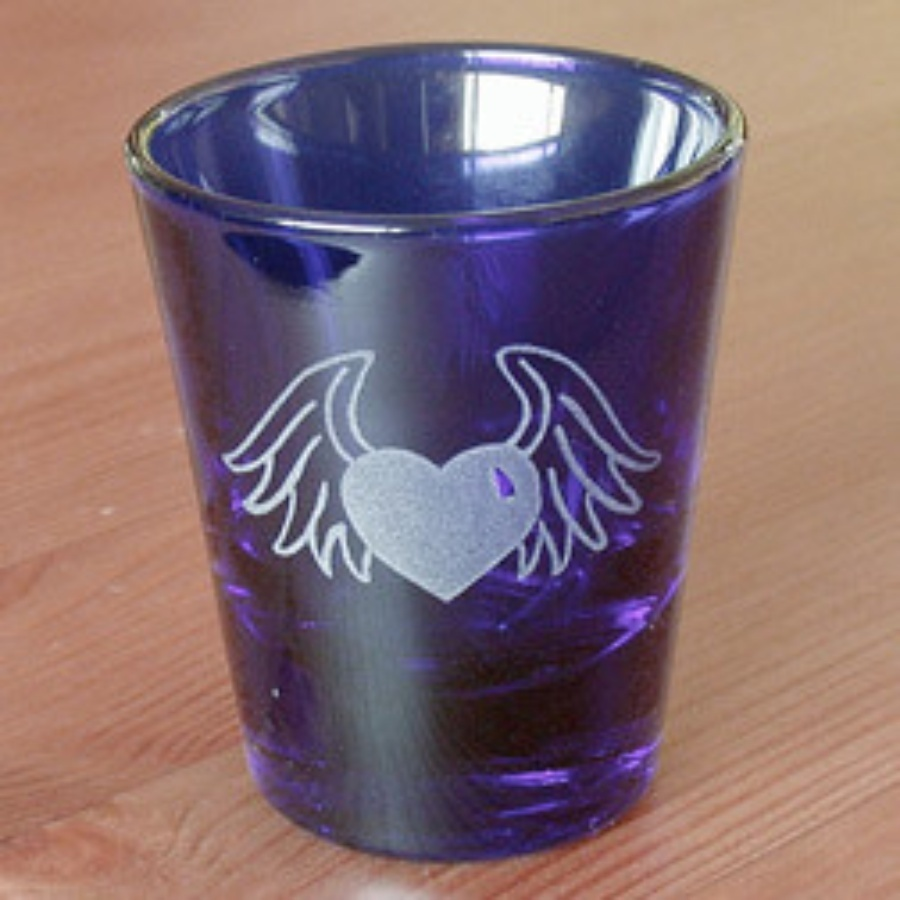whiskey: (120, 46, 734, 859)
